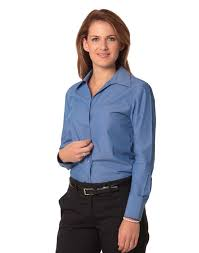F_belt: (59, 175, 143, 190)
F_shirt: (46, 71, 167, 192)
